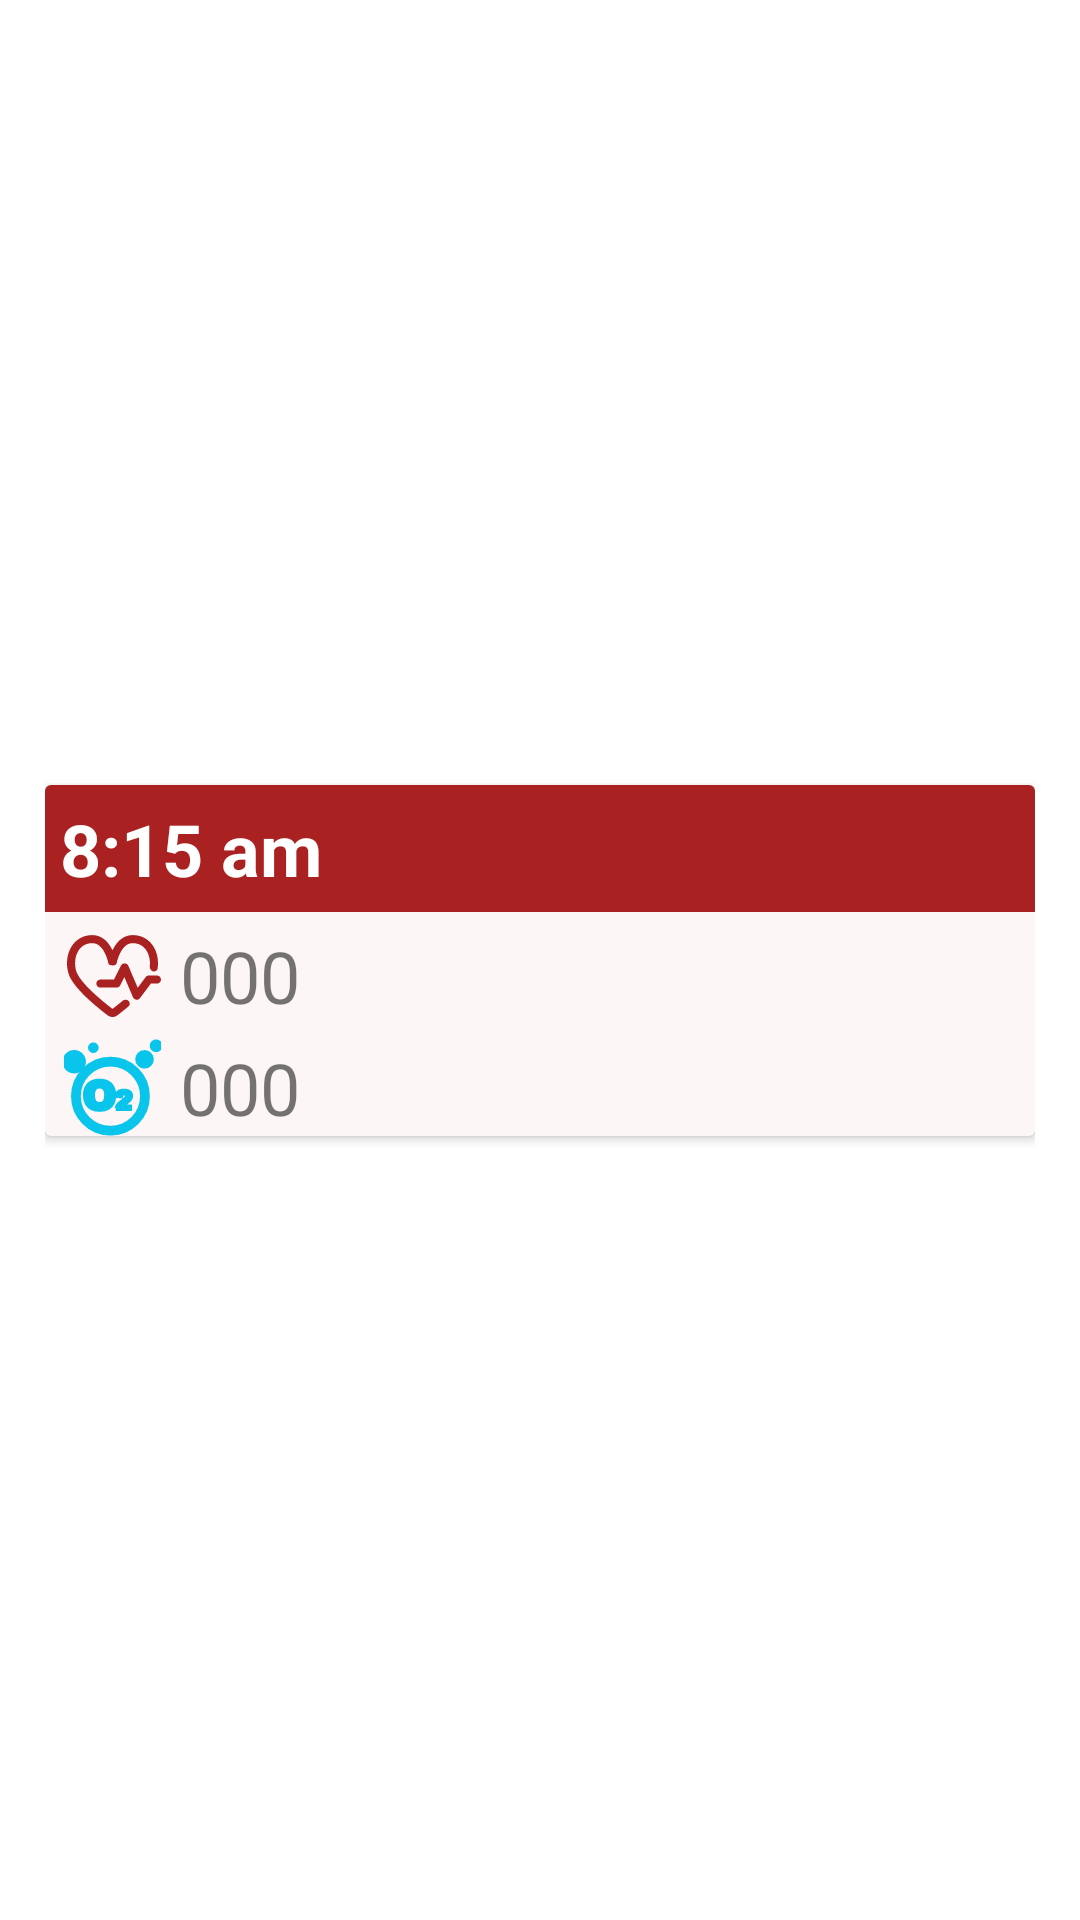

Named icons in this screenshot (1080px x 1920px) and their bounding boxes, box=[x1, y1, x2, y2]:
frequence cardiaque: box=[67, 935, 161, 1017]
saturation oxygen: box=[45, 1039, 161, 1136]
